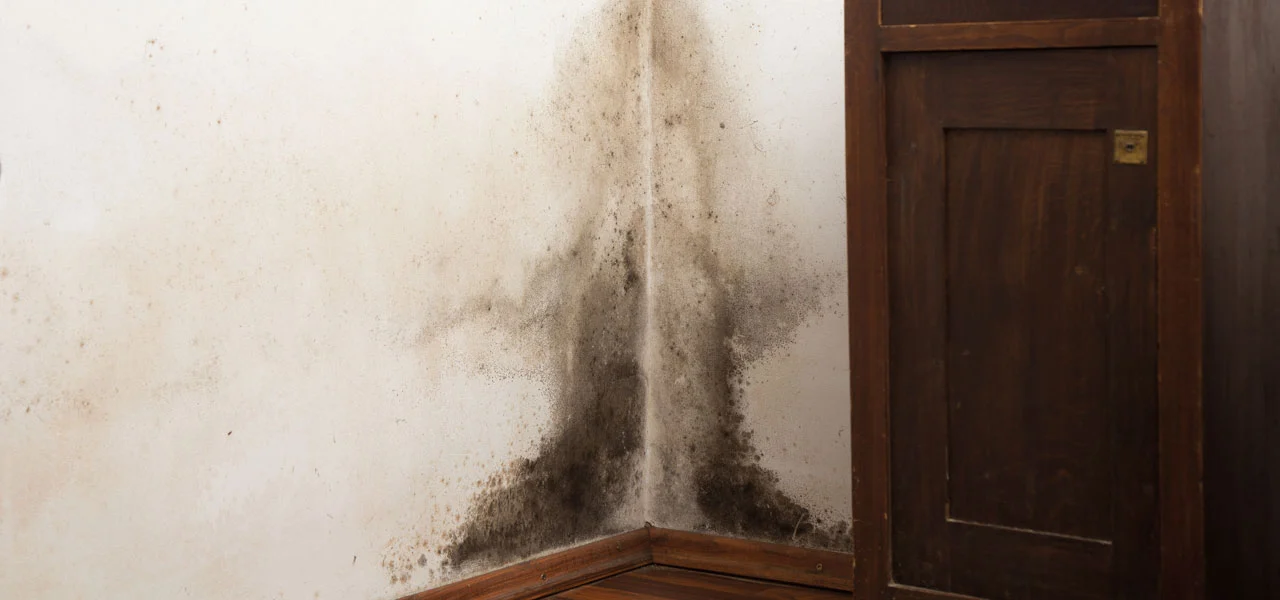schimmel: (583, 274, 638, 523), (702, 288, 756, 529), (522, 438, 585, 550), (765, 467, 851, 542), (449, 500, 520, 558)
